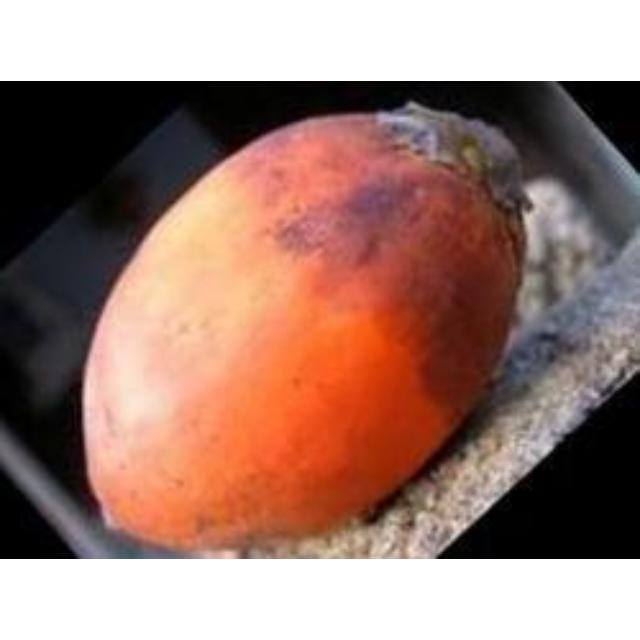good: (82, 101, 535, 557)
